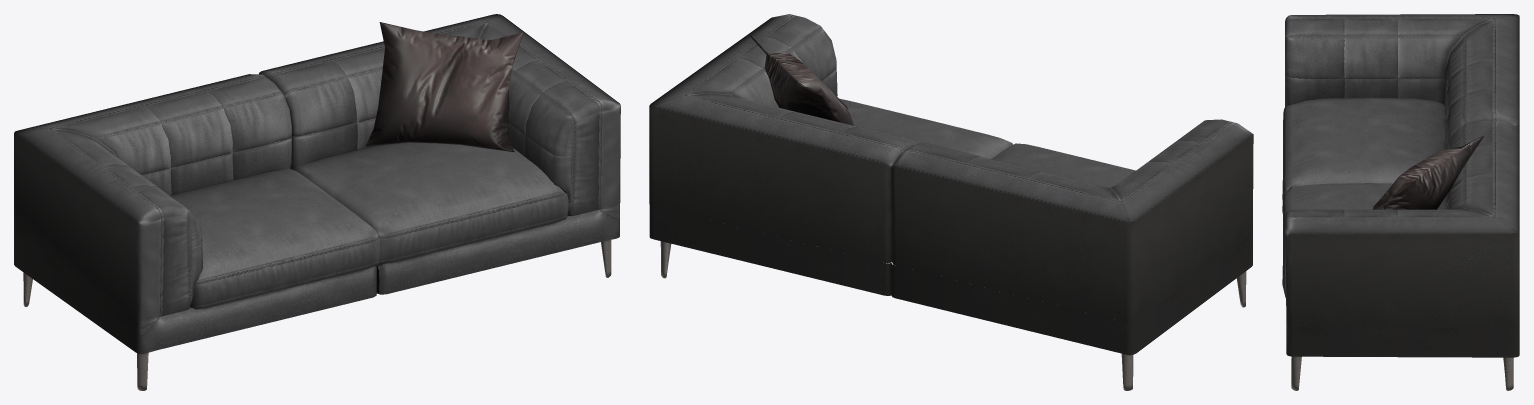
Rendered from Two_Seater_Sofa_02.fbx.
3 renders of one model, left to right at view 1: azimuth 30°, elevation 25°; view 2: azimuth 150°, elevation 25°; view 3: azimuth 270°, elevation 25°, orthographic. The views are drawn at different scales.
Parts seen in each view (by area): view 1: stand.003; view 2: stand.003; view 3: stand.003.
Part boxes in pixels (x1,y1,x2,y2): stand.003: (14,14,620,390); stand.003: (649,14,1253,390); stand.003: (1282,14,1519,390).
Size of the model in its own units: 222 by 92 by 101.
Materials: 2 (2 with a texture image).
